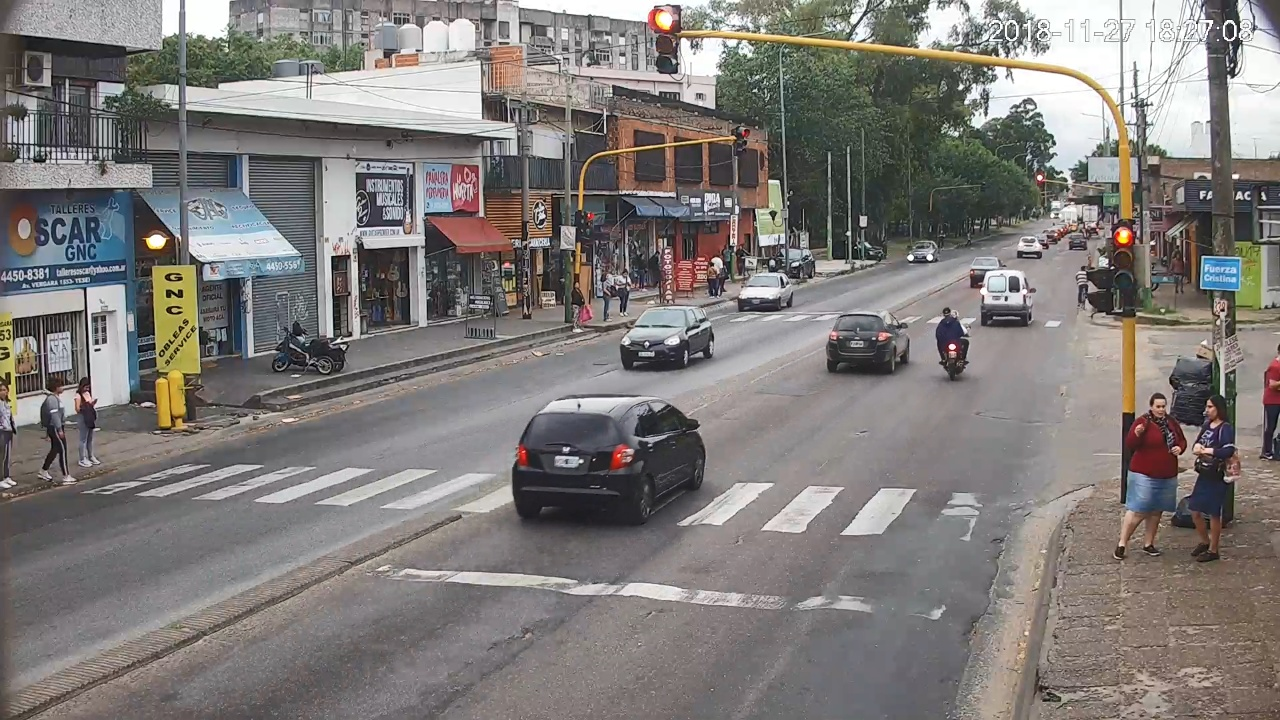car: (512, 396, 707, 522), (825, 309, 911, 372), (981, 269, 1036, 327)
motorcycle: (936, 307, 971, 381)
person: (1114, 393, 1187, 560), (1187, 395, 1235, 563), (39, 379, 76, 484), (74, 376, 101, 467)
